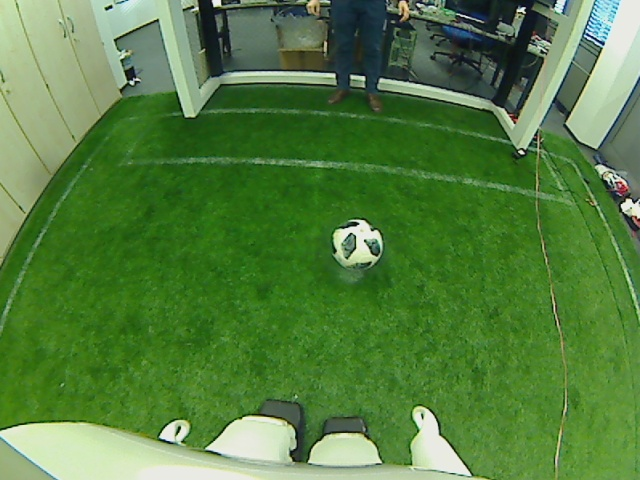ball: (329, 215, 384, 273)
